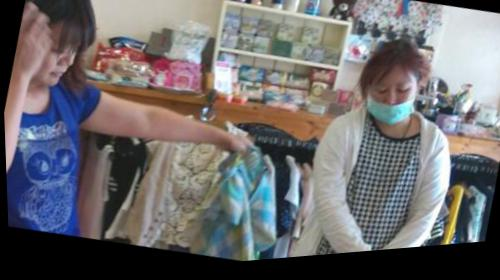NONE: (25, 29, 85, 94)
WRONG: (361, 77, 421, 139)
